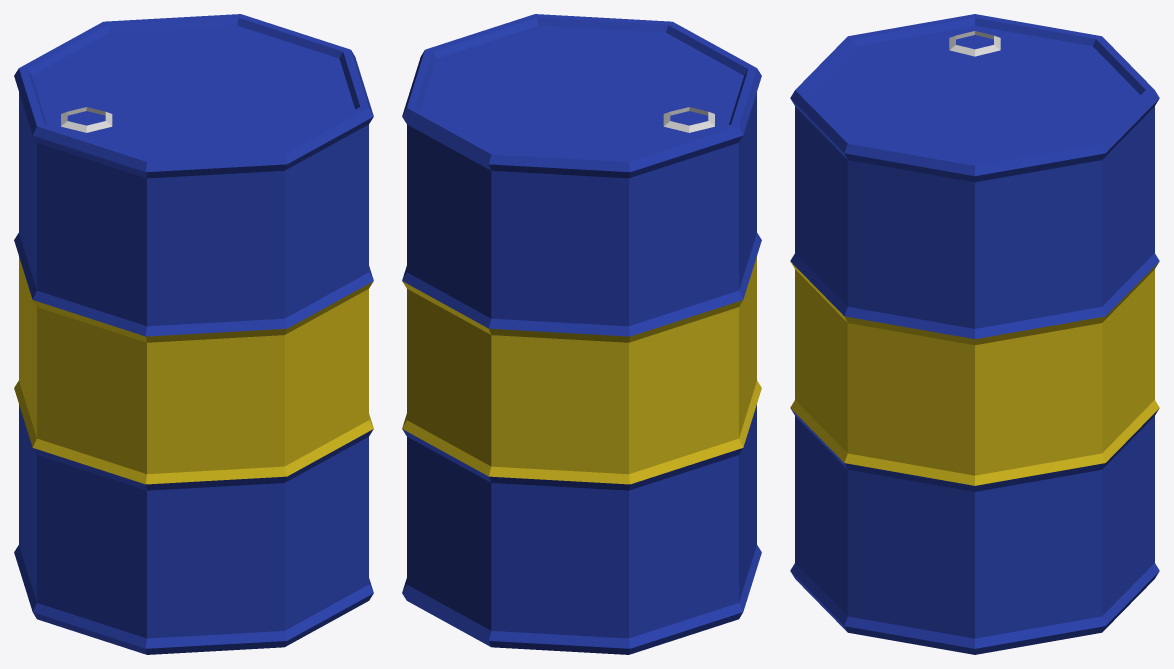
Rendered from DrumBlueYellow.fbx.
3 renders of one model, left to right at view 1: azimuth 30°, elevation 25°; view 2: azimuth 150°, elevation 25°; view 3: azimuth 270°, elevation 25°, orthographic.
Visible parts, largest first — view 1: Cylinder; view 2: Cylinder; view 3: Cylinder.
Part boxes in pixels (x1,y1,x2,y2): Cylinder: (14, 14, 373, 654); Cylinder: (402, 14, 761, 654); Cylinder: (790, 14, 1159, 654).
Bounding box in the file's own units: 0.822 × 1.2 × 0.822.
